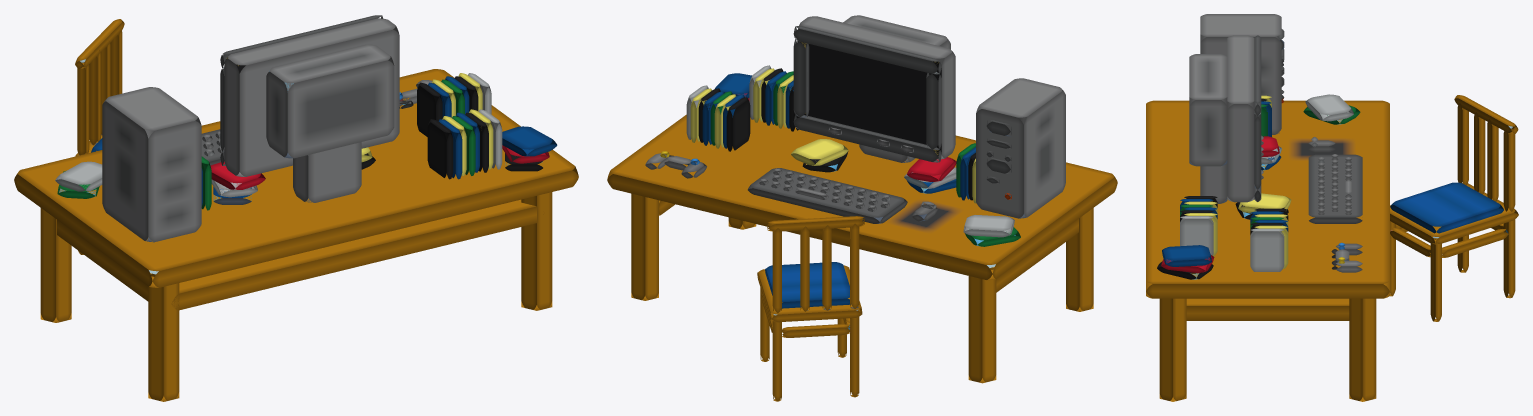
The model's file is PCDESK.obj.
3 renders of one model, left to right at view 1: azimuth 30°, elevation 25°; view 2: azimuth 150°, elevation 25°; view 3: azimuth 270°, elevation 25°, orthographic. The views are drawn at different scales.
Visible parts, largest first — view 1: cube, cylinder; view 2: cube, cylinder; view 3: cube, cylinder.
Boxes of the visible parts, x1,y1,x2,y2 form: cube: (14,15,578,310); cylinder: (40,192,552,401); cube: (607,15,1117,401); cylinder: (631,193,1093,383); cube: (1146,14,1518,321); cylinder: (1159,298,1376,401).
Bounding box in the file's own units: 1 × 0.625 × 0.8602.
Materials: 1 (1 with a texture image).
